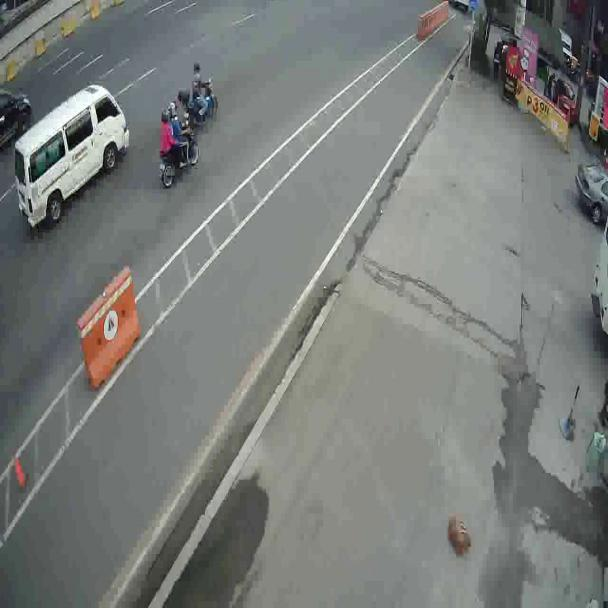motorcyclist: (152, 102, 199, 190), (184, 60, 220, 133)
vehicle: (9, 73, 134, 237), (572, 148, 606, 229)
